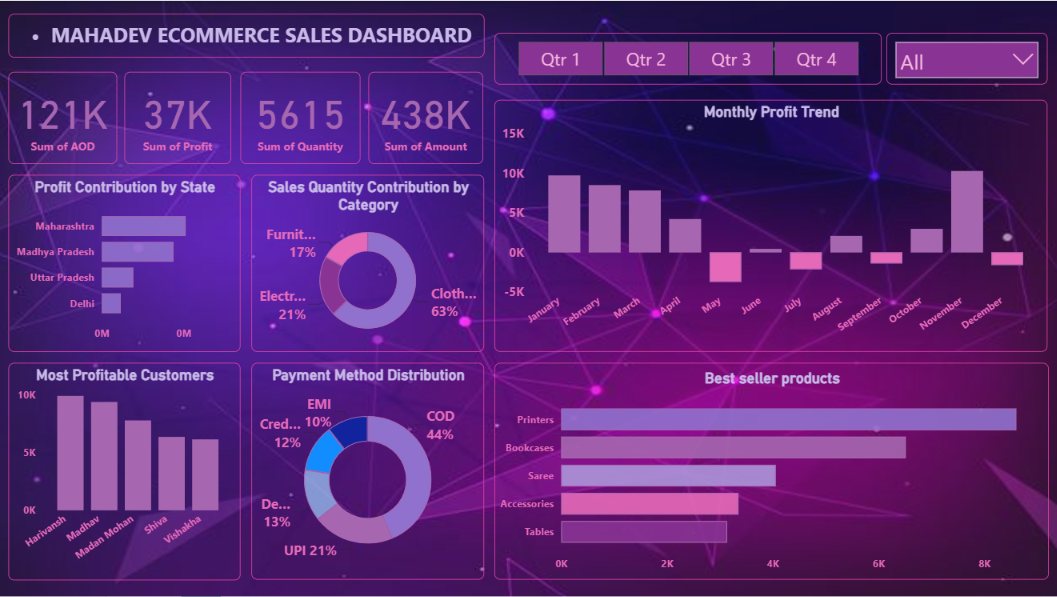

This screenshot's page, from the dashboard's own definition file:
{"tool":"powerbi","page":{"name":"Page 1","canvas":[1280,720],"ordinal":0},"visuals":[{"type":"textbox","box":[12.1,15.7,574.3,53.1],"z":0},{"type":"columnChart","title":" Profit by Month","fields":{"Category":["Orders.Order Date.Variation.Date Hierarchy.Month"],"Y":["Sum(Details.Profit)"]},"box":[598.4,119.4,667.2,304],"z":1000},{"type":"barChart","title":"Profit by Sub-Category","fields":{"Category":["Details.Sub-Category"],"Y":["Sum(Details.Profit)"]},"box":[598.8,437,669.1,261.7],"z":2000},{"type":"donutChart","fields":{"Category":["Details.Category"],"Y":["Sum(Details.Quantity)"]},"box":[305.2,209.9,281.1,213.5],"z":3000},{"type":"donutChart","title":" Quantity by PaymentMode","fields":{"Category":["Details.PaymentMode"],"Y":["Sum(Details.Quantity)"]},"box":[305.2,436.7,281.1,261.8],"z":4000},{"type":"card","fields":{"Values":["Sum(Details.Amount)"]},"box":[446.4,85.7,138.7,111],"z":5000},{"type":"card","fields":{"Values":["Sum(Details.Quantity)"]},"box":[292,85.7,144.8,111],"z":6000},{"type":"card","fields":{"Values":["Sum(Details.Profit)"]},"box":[152,85.7,129.1,111],"z":7000},{"type":"card","fields":{"Values":["Sum(Details.AOD)"]},"box":[12.1,85.7,131.5,111],"z":8000},{"type":"barChart","title":"Profit by Sub-Category","fields":{"Category":["Orders.State"],"Y":["Sum(Details.Amount)"]},"box":[12.1,209.9,279.9,213.5],"z":9000},{"type":"columnChart","fields":{"Category":["Orders.CustomerName"],"Y":["Sum(Details.Amount)"]},"box":[12,437,280,262],"z":10000},{"type":"slicer","fields":{"Values":["Orders.Order Date.Variation.Date Hierarchy.Quarter"]},"box":[598.4,38.6,466.9,62.7],"z":11000},{"type":"slicer","fields":{"Values":["Orders.State"]},"box":[1071.3,38.6,194.2,62.7],"z":12000}]}

Visuals, with their boxes in screenshot pixels (x1, y1, x2, y2), scaled from the page's 1280x720 canvas onto the 1057x597 screenshot:
textbox: BBox(10, 13, 484, 57)
" Profit by Month" columnChart: BBox(494, 99, 1045, 351)
"Profit by Sub-Category" barChart: BBox(494, 362, 1047, 579)
donutChart - Details.Category x Sum(Details.Quantity): BBox(252, 174, 484, 351)
" Quantity by PaymentMode" donutChart: BBox(252, 362, 484, 579)
card - Sum(Details.Amount): BBox(369, 71, 483, 163)
card - Sum(Details.Quantity): BBox(241, 71, 361, 163)
card - Sum(Details.Profit): BBox(126, 71, 232, 163)
card - Sum(Details.AOD): BBox(10, 71, 119, 163)
"Profit by Sub-Category" barChart: BBox(10, 174, 241, 351)
columnChart - Orders.CustomerName x Sum(Details.Amount): BBox(10, 362, 241, 580)
slicer - Orders.Order Date.Variation.Date Hierarchy.Quarter: BBox(494, 32, 880, 84)
slicer - Orders.State: BBox(885, 32, 1045, 84)
